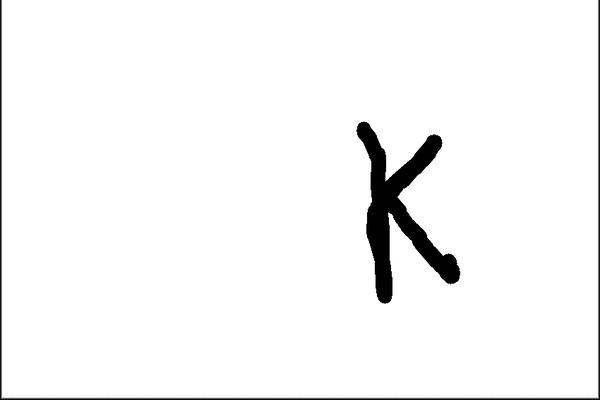K: (348, 110, 472, 309)
